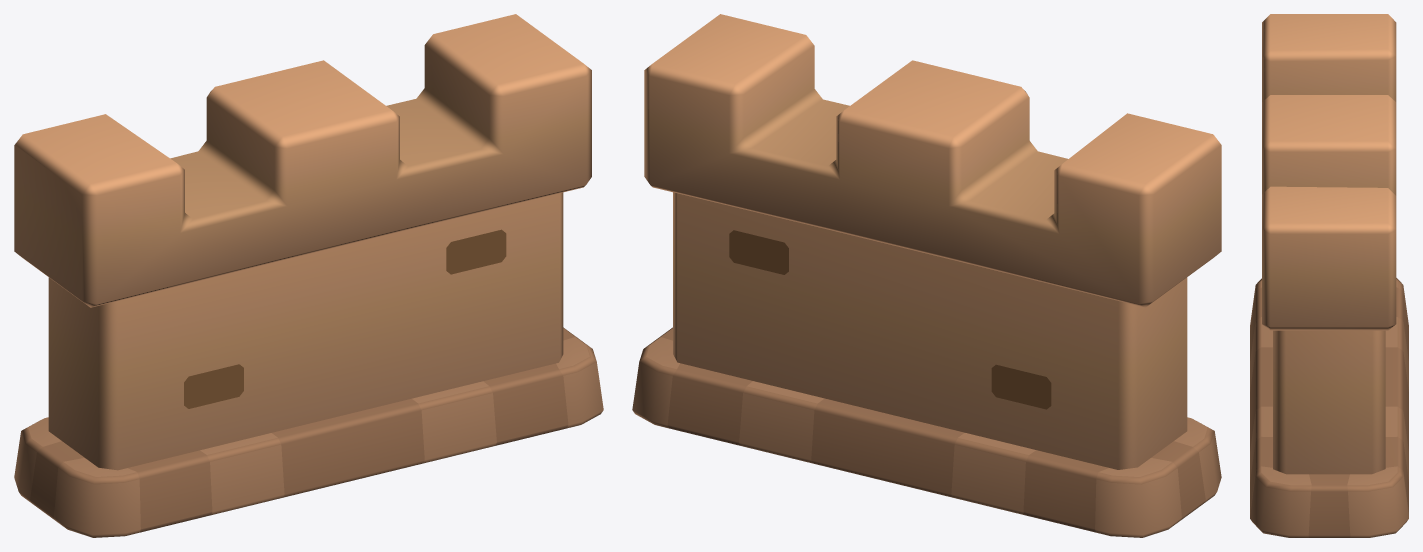
The model's file is Wall_1.fbx.
The picture shows the model from 3 angles, left to right: view 1: azimuth 30°, elevation 25°; view 2: azimuth 150°, elevation 25°; view 3: azimuth 270°, elevation 25°; orthographic projection. The views are drawn at different scales.
Visible parts, largest first — view 1: Wall_1; view 2: Wall_1; view 3: Wall_1.
Boxes of the visible parts, x1=… form: Wall_1: x1=14, y1=14, x2=603, y2=537; Wall_1: x1=632, y1=14, x2=1221, y2=537; Wall_1: x1=1250, y1=14, x2=1408, y2=537.
Bounding box in the file's own units: 447 × 281 × 133.
